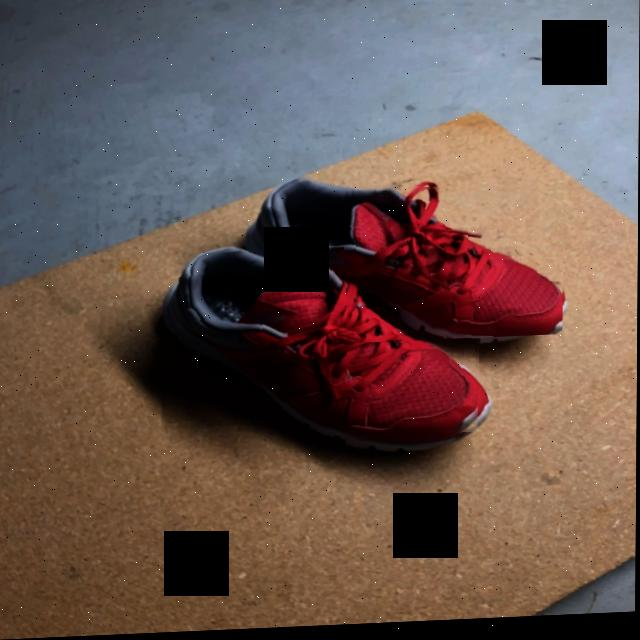shoe: (163, 253, 480, 444), (346, 190, 563, 342)
